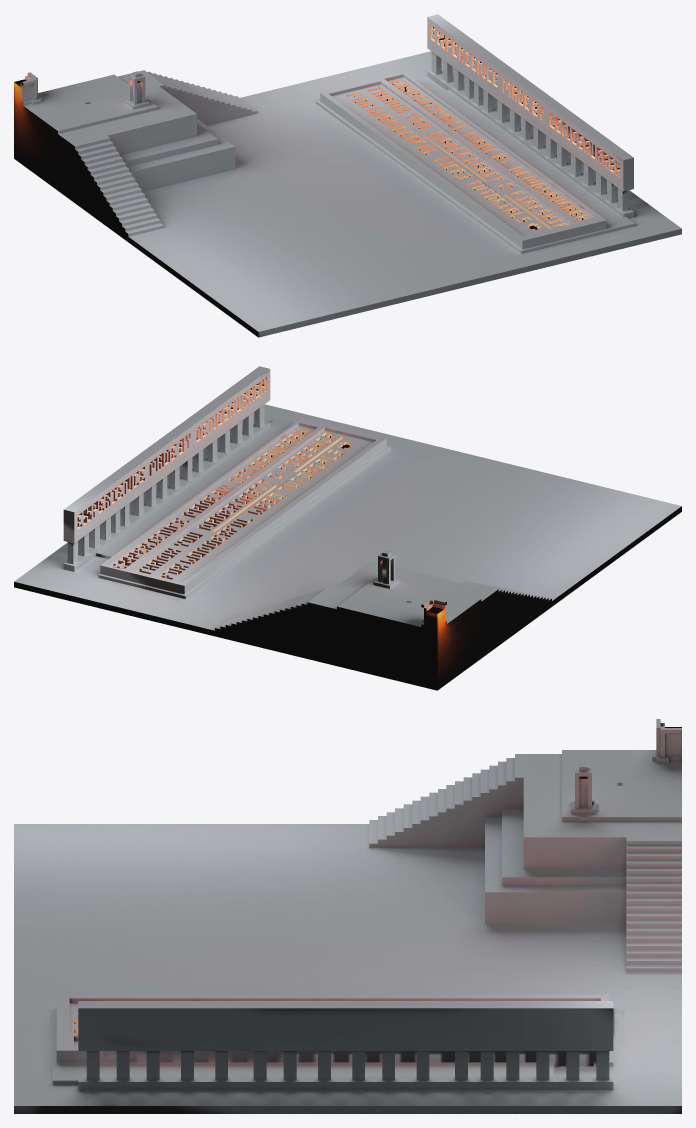
The model's file is palace_thanks_com.glb.
The picture shows the model from 3 angles, top to bottom: view 1: azimuth 30°, elevation 25°; view 2: azimuth 150°, elevation 25°; view 3: azimuth 270°, elevation 25°; orthographic projection. The views are drawn at different scales.
Parts seen in each view (by area): view 1: palace_thanks; view 2: palace_thanks; view 3: palace_thanks.
Part boxes in pixels (<box>): palace_thanks: <box>14,14,681,337</box>; palace_thanks: <box>14,366,681,690</box>; palace_thanks: <box>14,719,681,1113</box>.
Size of the model in its own units: 156 by 32 by 156.
1 material, 1 textured.
